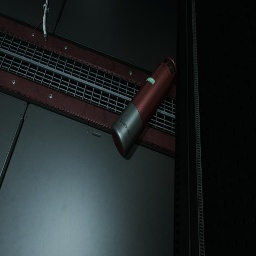NitrogenTank ,: (111, 57, 177, 158)
